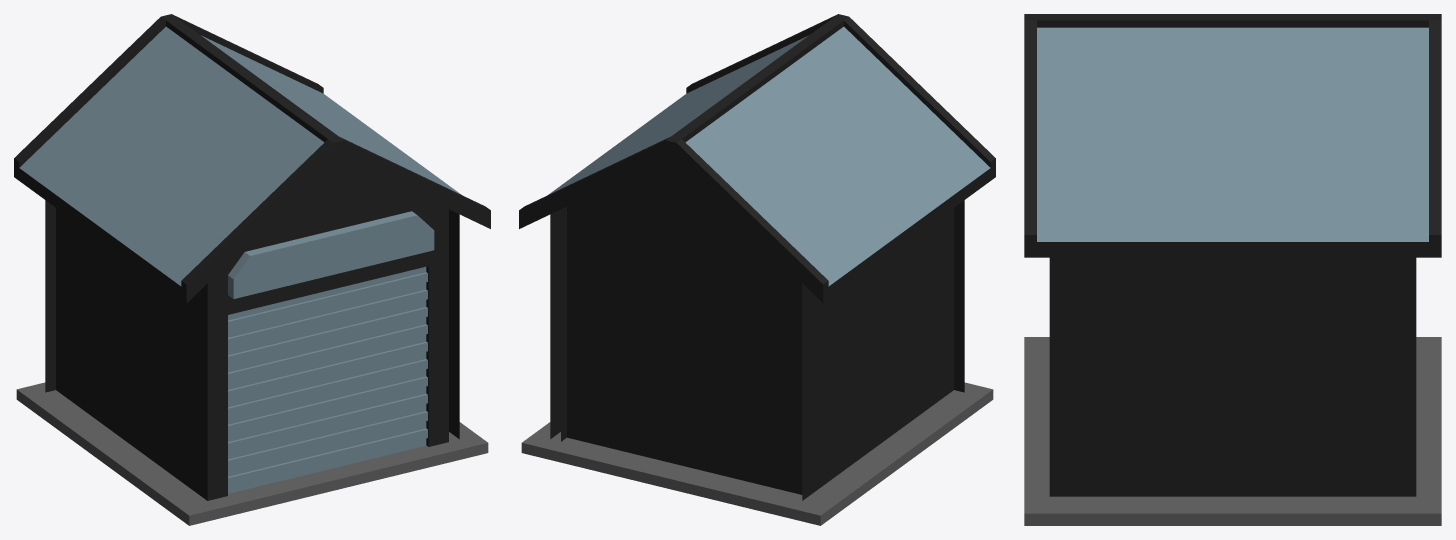
Rendered from MoneyStack.fbx.
3 renders of one model, left to right at view 1: azimuth 30°, elevation 25°; view 2: azimuth 150°, elevation 25°; view 3: azimuth 270°, elevation 25°, orthographic. The views are drawn at different scales.
Visible parts, largest first — view 1: Workshop, WorkshopFloor, DoorPiece2, DoorPiece1, DoorPiece3, WorkshopSign; view 2: Workshop, WorkshopFloor; view 3: Workshop, WorkshopFloor.
Part boxes in pixels (<box>): Workshop: <box>14,14,490,500</box>; WorkshopFloor: <box>16,382,488,525</box>; DoorPiece2: <box>228,324,427,434</box>; DoorPiece1: <box>228,386,427,493</box>; DoorPiece3: <box>228,266,427,372</box>; WorkshopSign: <box>228,211,434,298</box>; Workshop: <box>519,14,995,500</box>; WorkshopFloor: <box>521,382,993,525</box>; Workshop: <box>1024,14,1441,496</box>; WorkshopFloor: <box>1024,337,1441,525</box>.
Bounding box in the file's own units: 519 × 568 × 510.
